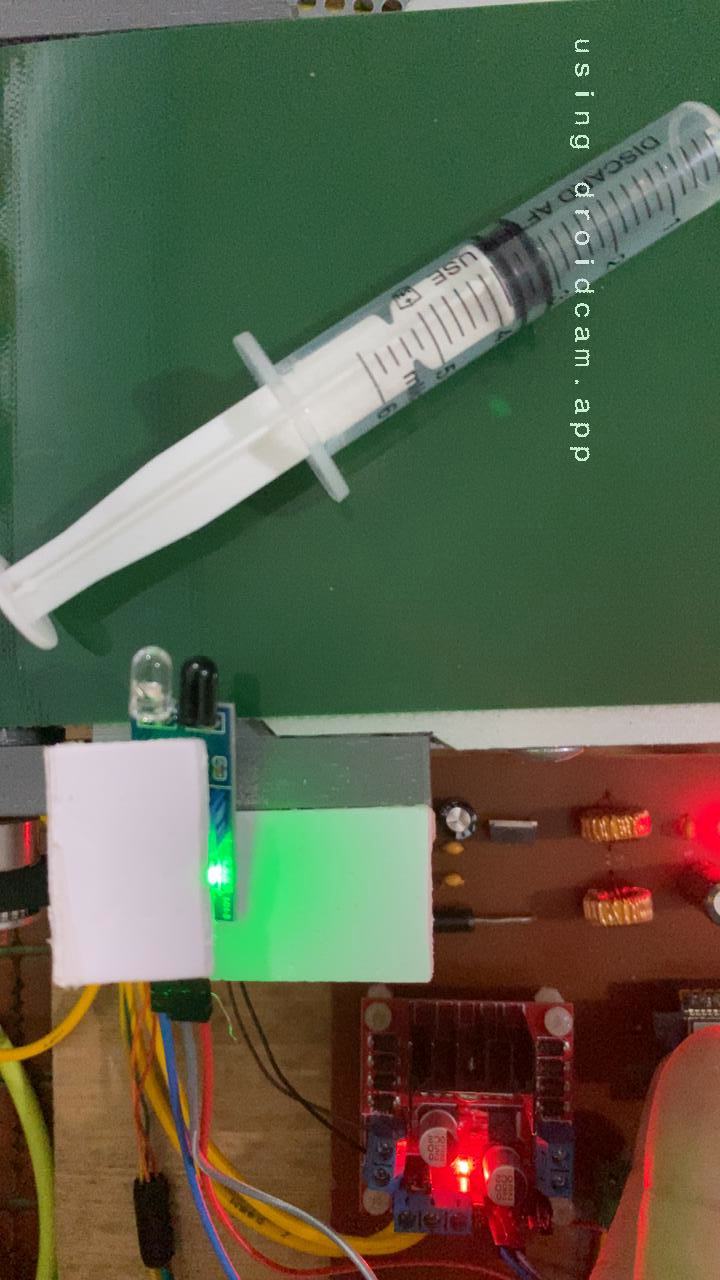syringe: (0, 95, 720, 658)
